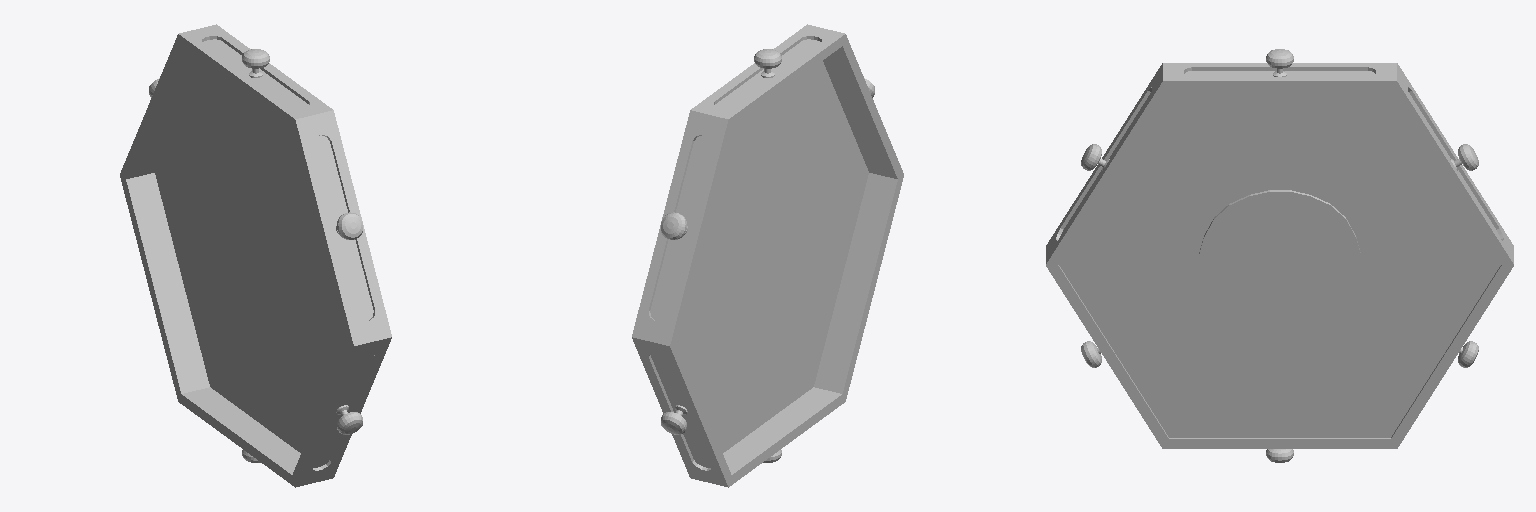
File: GearWheel.obj
3 renders of one model, left to right at view 1: azimuth 30°, elevation 25°; view 2: azimuth 150°, elevation 25°; view 3: azimuth 270°, elevation 25°, orthographic.
Parts seen in each view (by area): view 1: entity1_brush6, entity1_brush0, entity1_brush4, entity1_brush2, entity6_brush1, entity6_brush10, entity4_brush10, entity4_brush1, entity2_brush10, entity8_brush10, entity4_brush3, entity2_brush1 (+13 smaller); view 2: entity1_brush4, entity1_brush2, entity1_brush6, entity1_brush0, entity8_brush1, entity8_brush10, entity2_brush10, entity2_brush1, entity4_brush10, entity6_brush10, entity2_brush3, entity4_brush1 (+13 smaller); view 3: entity1_brush4, entity1_brush6, entity1_brush2, entity1_brush0, entity1_brush5, entity2_brush3, entity4_brush3, entity6_brush3, entity8_brush3, entity3_brush2, entity5_brush2, entity7_brush2 (+5 smaller).
Part boxes in pixels (left/top/right/bottom): entity1_brush6: left=155, top=173, right=265, bottom=427; entity1_brush0: left=155, top=61, right=265, bottom=253; entity1_brush4: left=266, top=254, right=347, bottom=452; entity1_brush2: left=266, top=108, right=338, bottom=306; entity6_brush1: left=141, top=189, right=203, bottom=375; entity6_brush10: left=123, top=177, right=190, bottom=393; entity4_brush10: left=292, top=127, right=359, bottom=340; entity4_brush1: left=312, top=135, right=373, bottom=321; entity2_brush10: left=123, top=42, right=187, bottom=178; entity8_brush10: left=293, top=342, right=359, bottom=479; entity4_brush3: left=328, top=123, right=388, bottom=326; entity2_brush1: left=141, top=53, right=200, bottom=165; entity1_brush4: left=758, top=173, right=868, bottom=427; entity1_brush2: left=758, top=61, right=868, bottom=253; entity1_brush6: left=676, top=254, right=757, bottom=452; entity1_brush0: left=685, top=108, right=757, bottom=306; entity8_brush1: left=820, top=189, right=882, bottom=375; entity8_brush10: left=833, top=177, right=900, bottom=393; entity2_brush10: left=664, top=127, right=731, bottom=340; entity2_brush1: left=650, top=135, right=711, bottom=321; entity4_brush10: left=836, top=42, right=900, bottom=178; entity6_brush10: left=664, top=342, right=730, bottom=479; entity2_brush3: left=635, top=123, right=695, bottom=326; entity4_brush1: left=823, top=53, right=882, bottom=165; entity1_brush4: left=1059, top=264, right=1279, bottom=437; entity1_brush6: left=1280, top=264, right=1500, bottom=437; entity1_brush2: left=1060, top=91, right=1279, bottom=263; entity1_brush0: left=1280, top=91, right=1499, bottom=263; entity1_brush5: left=1199, top=190, right=1360, bottom=338; entity2_brush3: left=1391, top=88, right=1507, bottom=264; entity4_brush3: left=1052, top=88, right=1168, bottom=264; entity6_brush3: left=1391, top=265, right=1507, bottom=438; entity8_brush3: left=1052, top=265, right=1168, bottom=438; entity3_brush2: left=1280, top=77, right=1389, bottom=90; entity5_brush2: left=1170, top=77, right=1279, bottom=90; entity7_brush2: left=1280, top=438, right=1390, bottom=448.
Bounding box in the file's own units: 12 × 122 × 127.